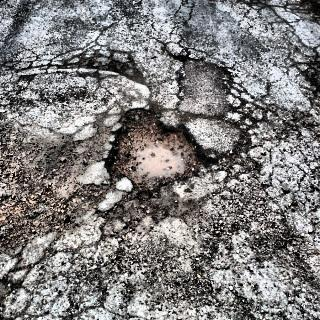pothole: (101, 91, 222, 195)
